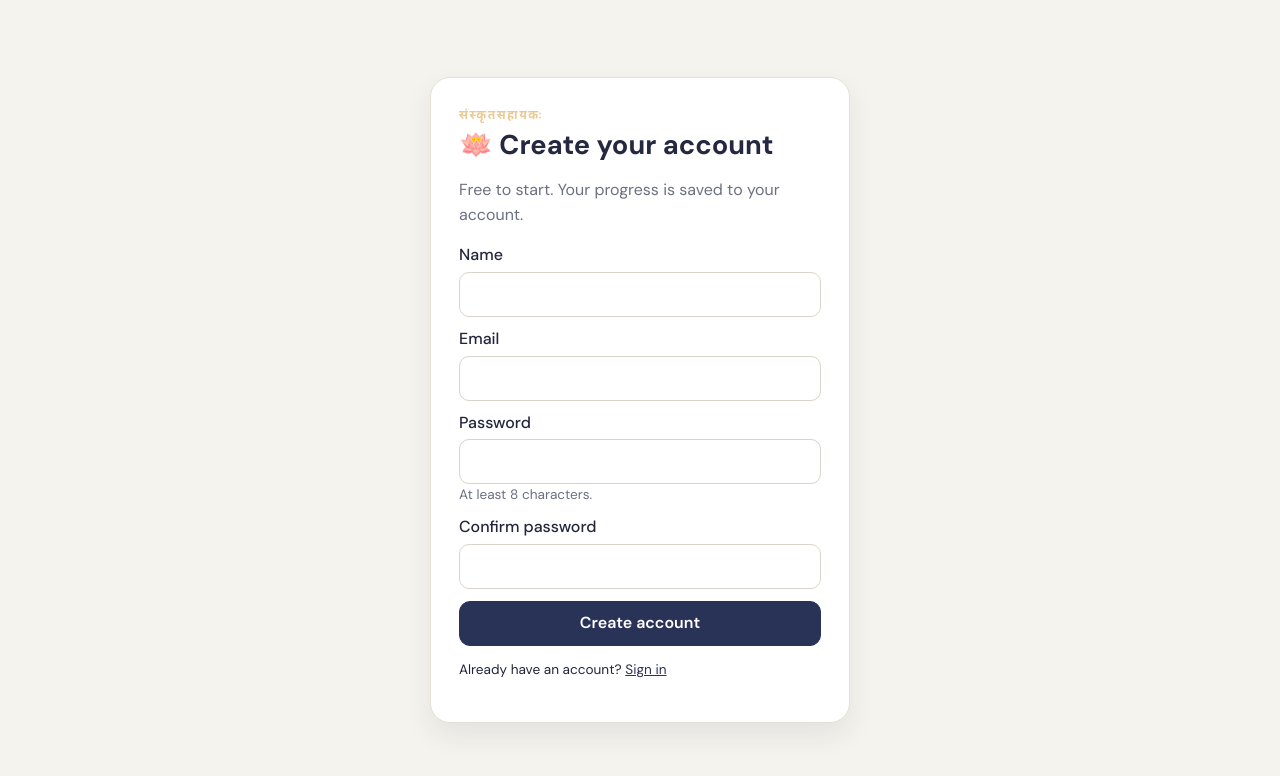
Scenario: routing and auth › registers (client-side checks), then lands on the home page
In the field labelled "Name": (640, 295) 459,272 -> 821,317, type "Asha"
In the field labelled "Email": (640, 378) 459,356 -> 821,401, type "asha@example.com"
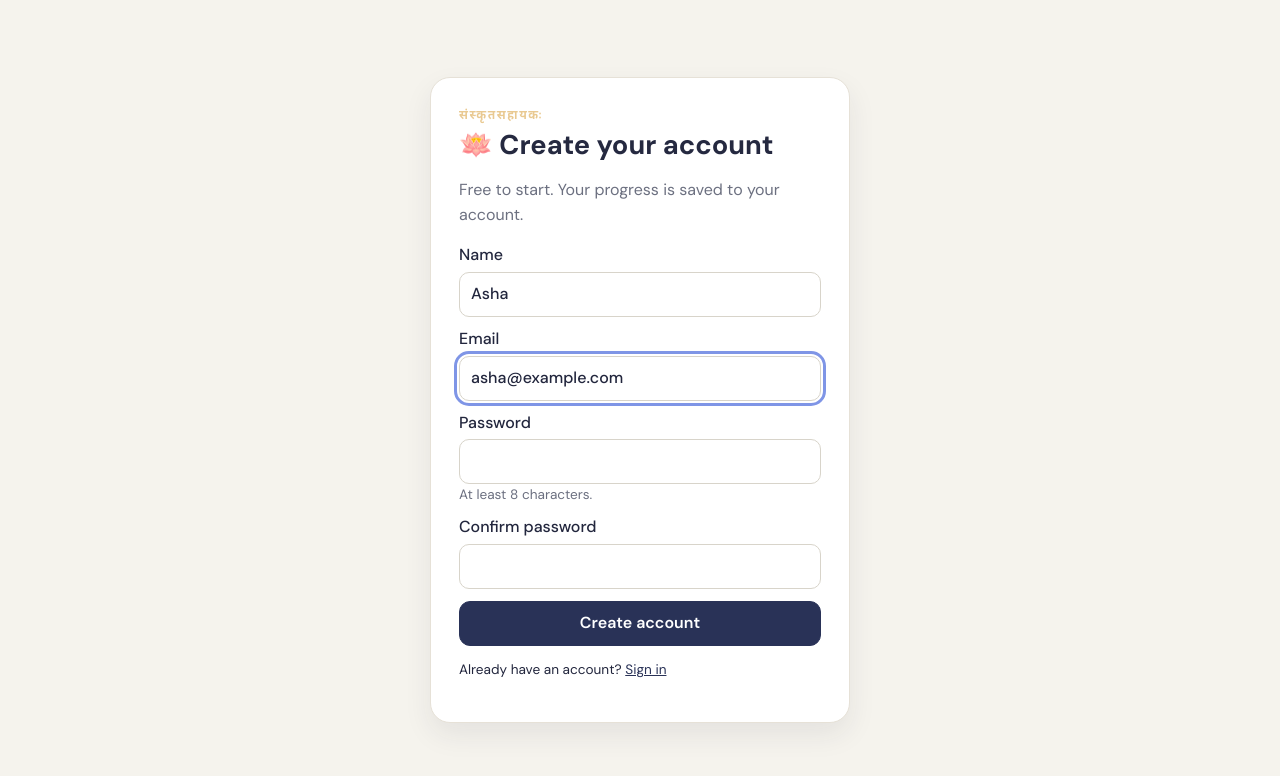
In the password field labelled "Password": (640, 462) 459,439 -> 821,484, type "longenough1"
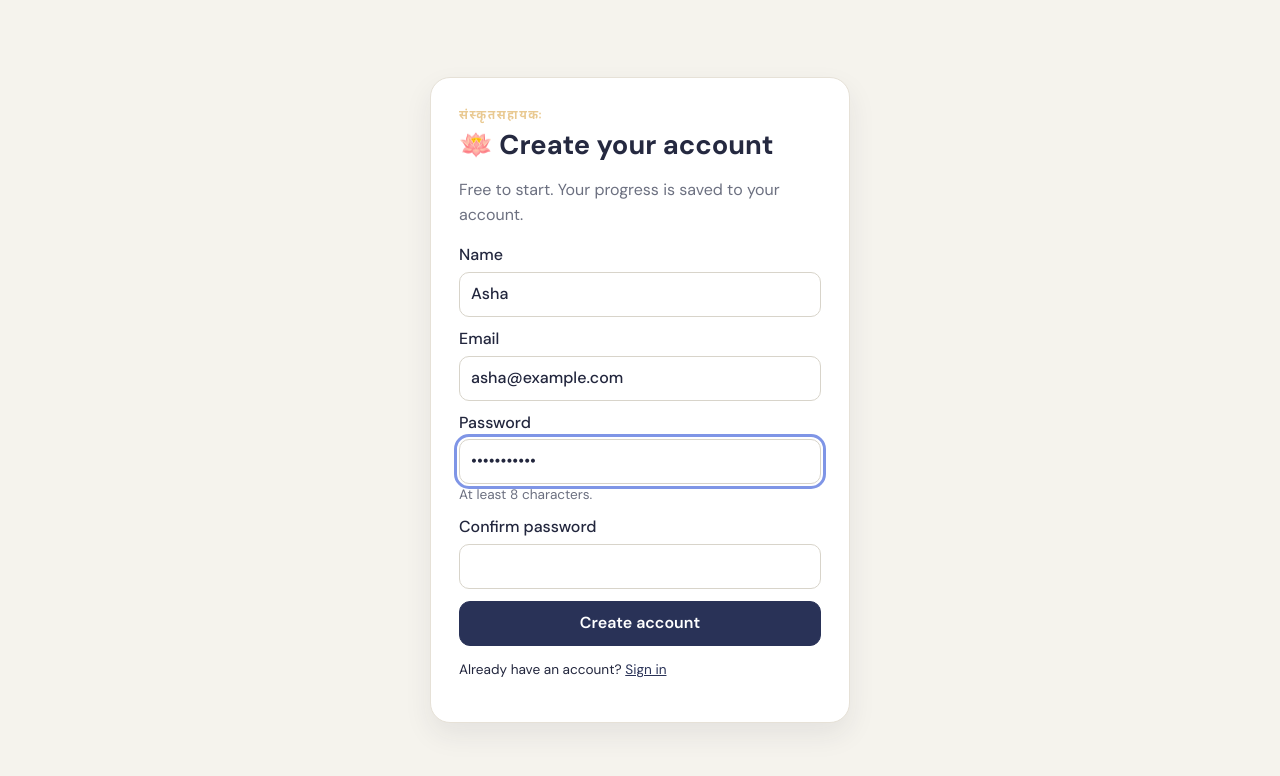
In the password field labelled "Confirm password": (640, 566) 459,544 -> 821,589, type "different123"
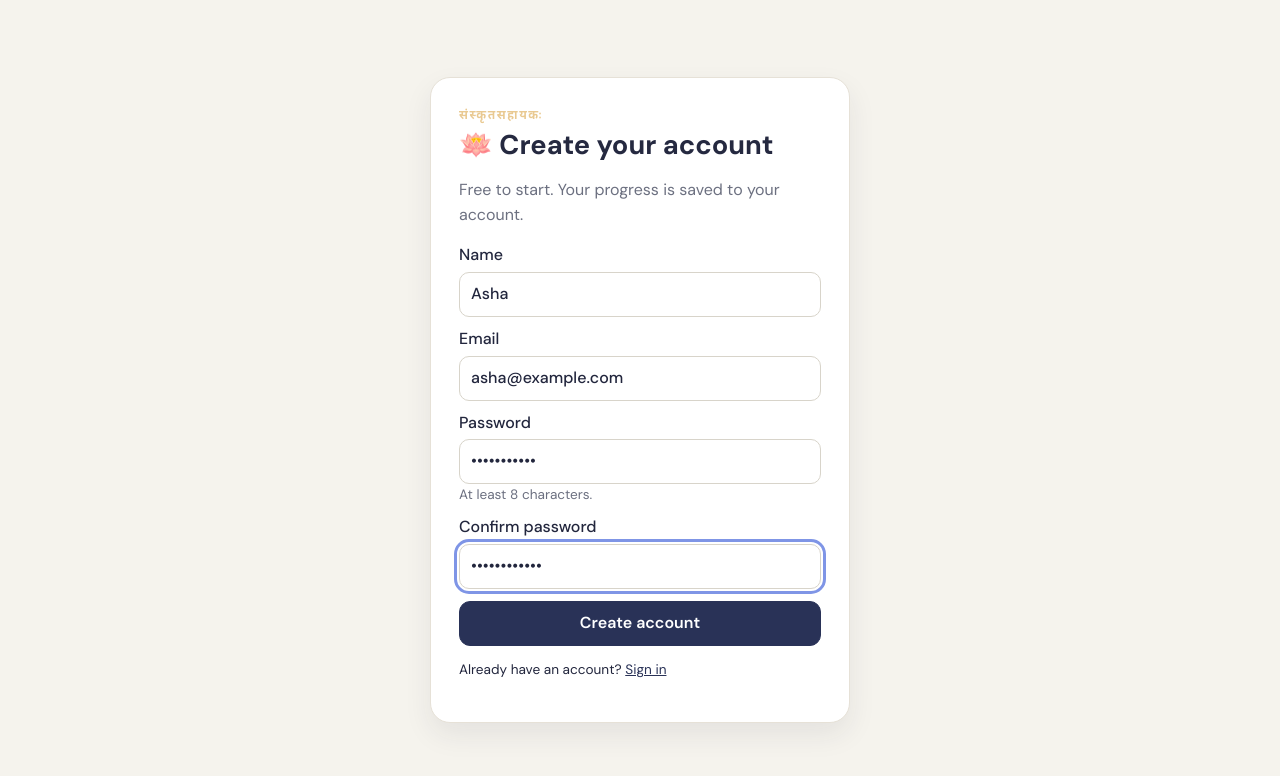
Click the button "Create account": (640, 623) 459,601 -> 821,646
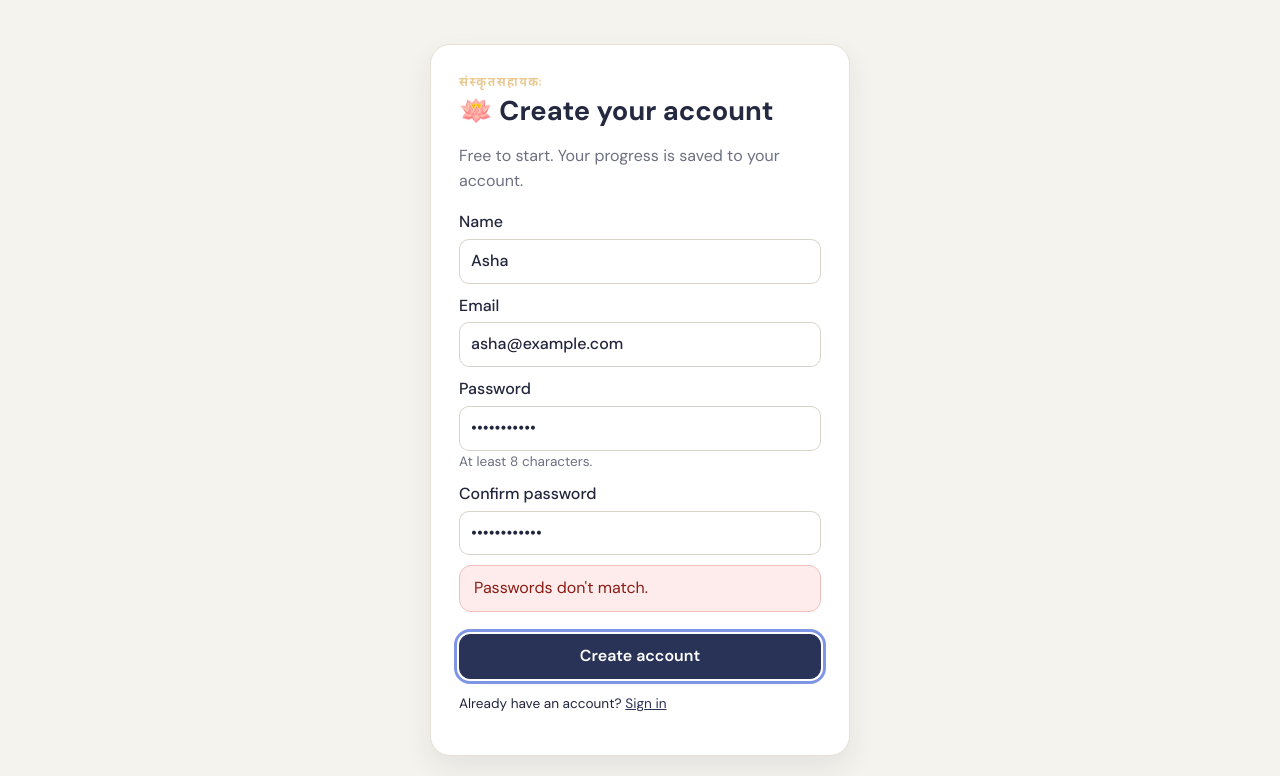
Expected: the message shows "don't match", 474,578 -> 648,598
In the password field labelled "Confirm password": (640, 533) 459,511 -> 821,556, type "longenough1"
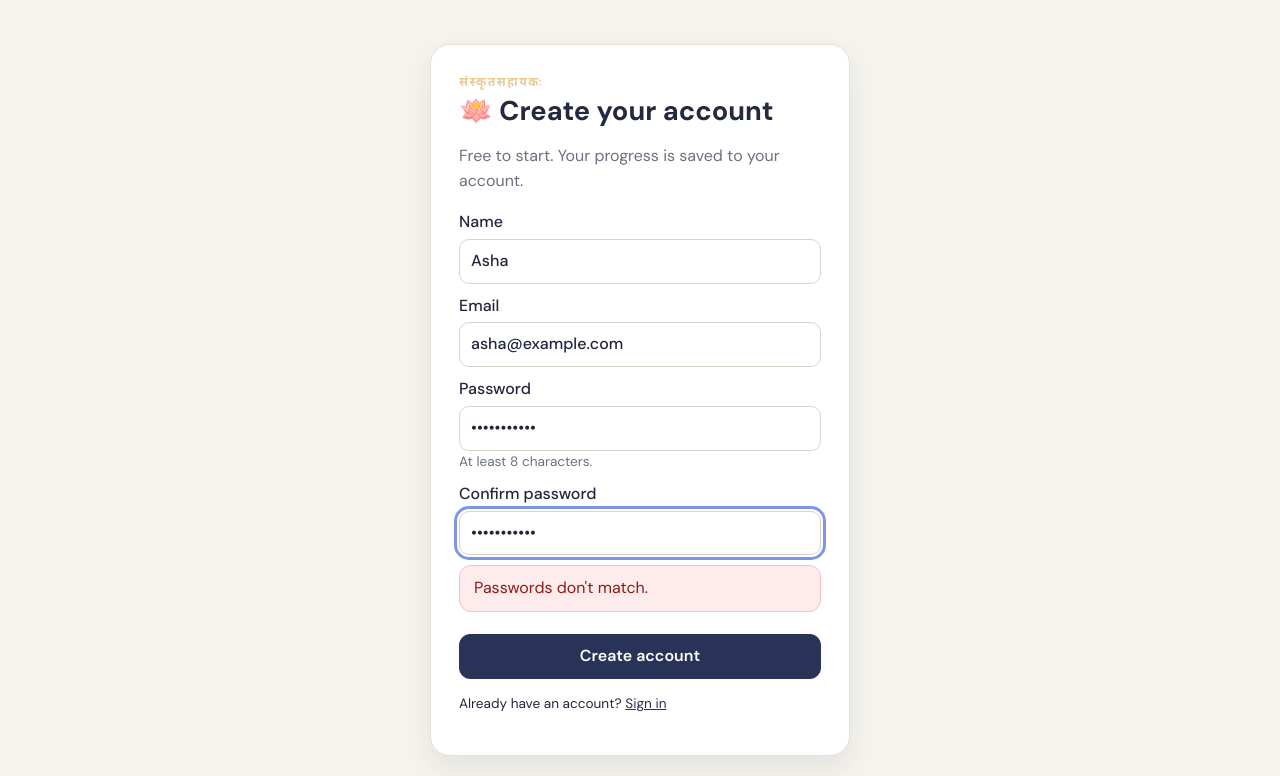
Click the button "Create account": (640, 657) 459,634 -> 821,679
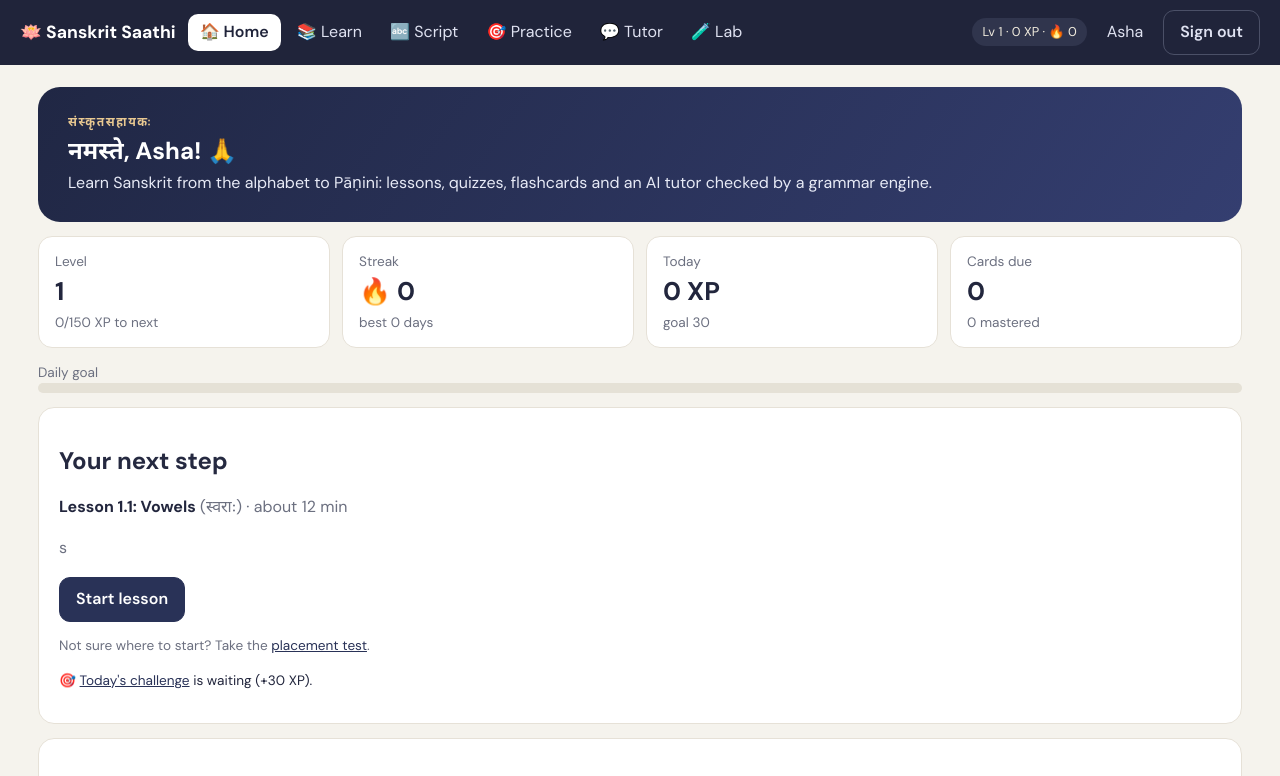
Expected: the heading "नमस्ते, Asha! 🙏" is shown, 68,135 -> 237,166
